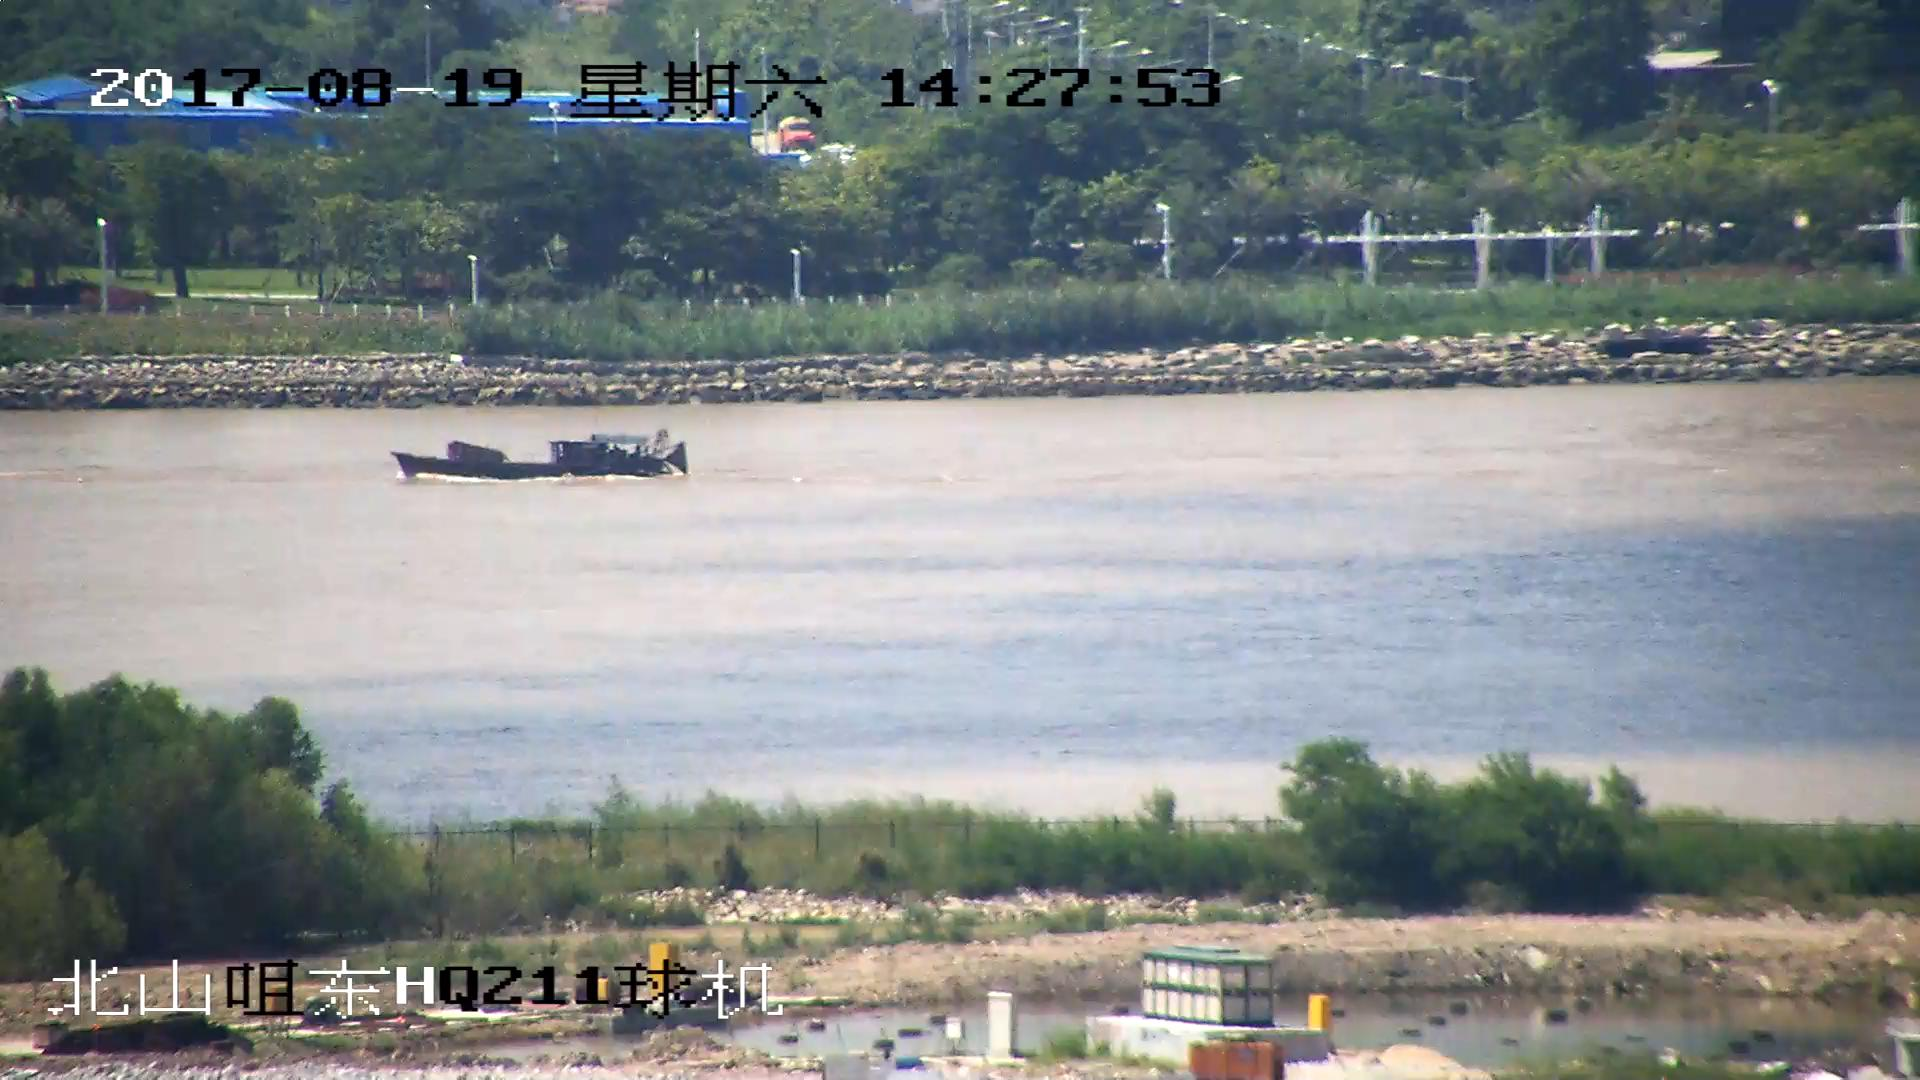fishing boat: (395, 430, 690, 479)
